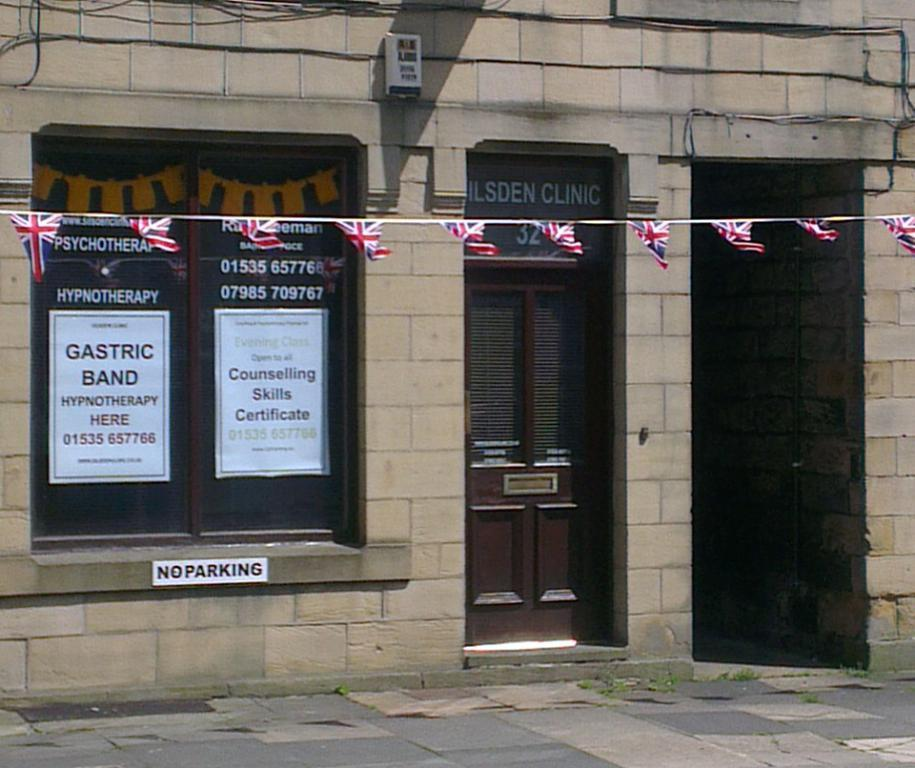door: (471, 282, 599, 639)
